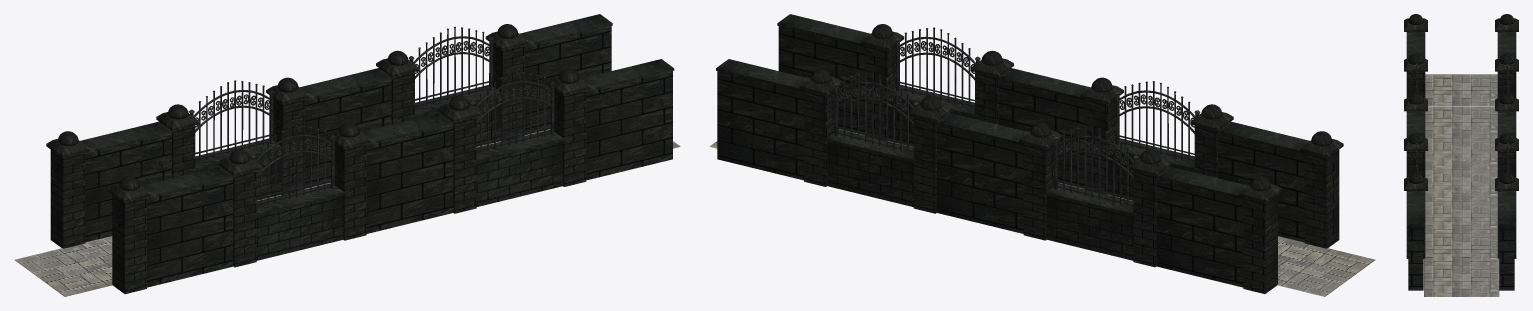
Rendered from wall.glb.
The picture shows the model from 3 angles, left to right: view 1: azimuth 30°, elevation 25°; view 2: azimuth 150°, elevation 25°; view 3: azimuth 270°, elevation 25°; orthographic projection. The views are drawn at different scales.
Parts seen in each view (by area): view 1: MuroAlto.001, MuroAlto, MuroAlto.002, MuroAlto.003, MuroAlto.004, MuroAlto.005, MuroBaixo.001, MuroBaixo, Pilar.005, Pilar.004, Chao.006, Pilar.002 (+13 smaller); view 2: MuroAlto.003, MuroAlto.005, MuroAlto.004, MuroAlto.002, MuroAlto, MuroAlto.001, MuroBaixo.002, MuroBaixo.003, Pilar.004, Pilar.005, Chao.006, Pilar.007 (+13 smaller); view 3: Chao, Chao.001, Chao.003, Chao.002, Chao.005, Chao.006, Chao.004, MuroAlto.005, MuroAlto, Pilar.008, Pilar.001, Pilar.006 (+15 smaller).
Boxes of the visible parts, x1,y1,x2,y2 form: MuroAlto.001: (361,113,454,233); MuroAlto: (581,59,674,180); MuroAlto.002: (141,166,234,287); MuroAlto.003: (80,121,173,242); MuroAlto.004: (300,68,392,188); MuroAlto.005: (519,14,612,134); MuroBaixo.001: (256,183,344,260); MuroBaixo: (476,129,564,206); Pilar.005: (46,131,89,248); Pilar.004: (107,176,151,294); Chao.006: (14,238,112,296); Pilar.002: (327,122,370,240); MuroAlto.003: (1155,166,1248,287); MuroAlto.005: (716,59,808,180); MuroAlto.004: (935,113,1028,233); MuroAlto.002: (1216,121,1309,242); MuroAlto: (777,14,870,134); MuroAlto.001: (997,68,1089,188); MuroBaixo.002: (1045,183,1133,260); MuroBaixo.003: (826,129,913,206); Pilar.004: (1300,131,1343,248); Pilar.005: (1238,176,1282,293); Chao.006: (1277,238,1375,296); Pilar.007: (1019,122,1062,240); Chao: (1424,265,1499,296); Chao.001: (1424,233,1499,265); Chao.003: (1425,201,1497,233); Chao.002: (1425,169,1497,201); Chao.005: (1425,106,1497,137); Chao.006: (1425,74,1497,105); Chao.004: (1425,138,1497,169); MuroAlto.005: (1497,191,1516,290); MuroAlto: (1406,191,1425,290); Pilar.008: (1495,133,1518,177); Pilar.001: (1404,133,1427,177); Pilar.006: (1495,53,1518,97).
Size of the model in its own units: 1401 by 261 by 305.
6 materials, 6 textured.
